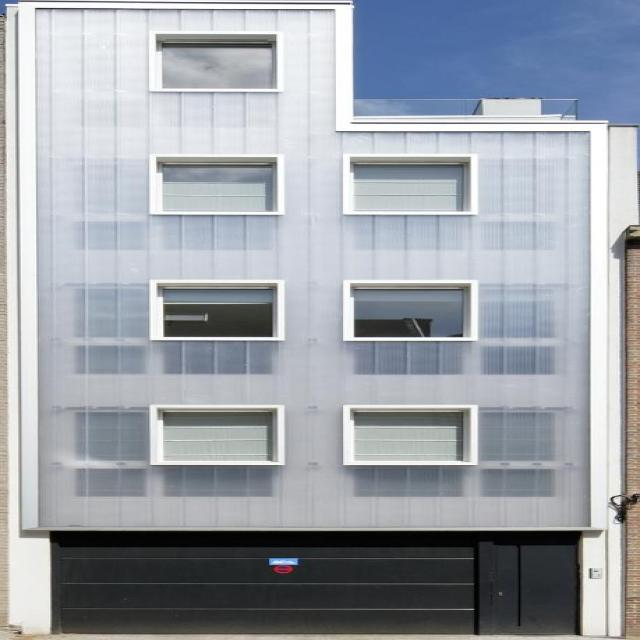door: (482, 534, 570, 635)
railing: (353, 96, 581, 117)
window: (159, 411, 272, 464), (156, 164, 275, 214), (345, 412, 459, 461), (154, 45, 270, 93), (352, 290, 464, 339), (353, 167, 462, 216), (161, 291, 271, 339)
